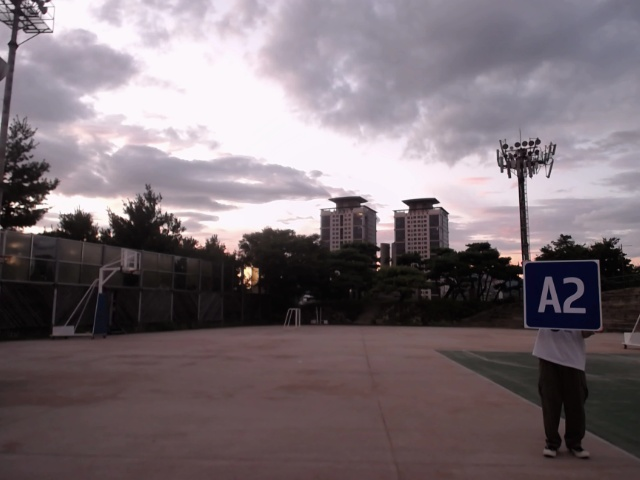delivery_a2: (524, 260, 601, 330)
